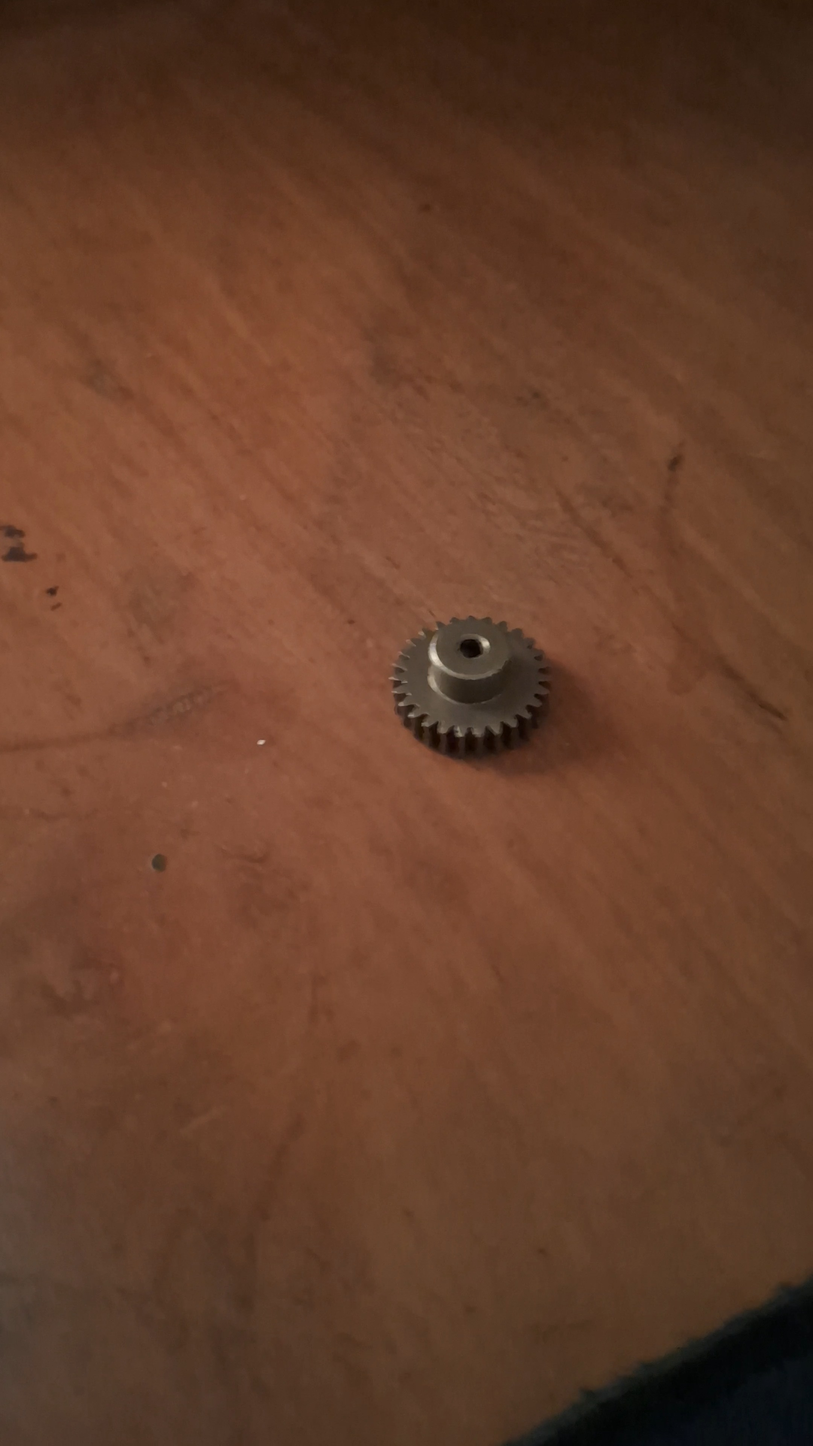spur gear: (392, 617, 550, 756)
